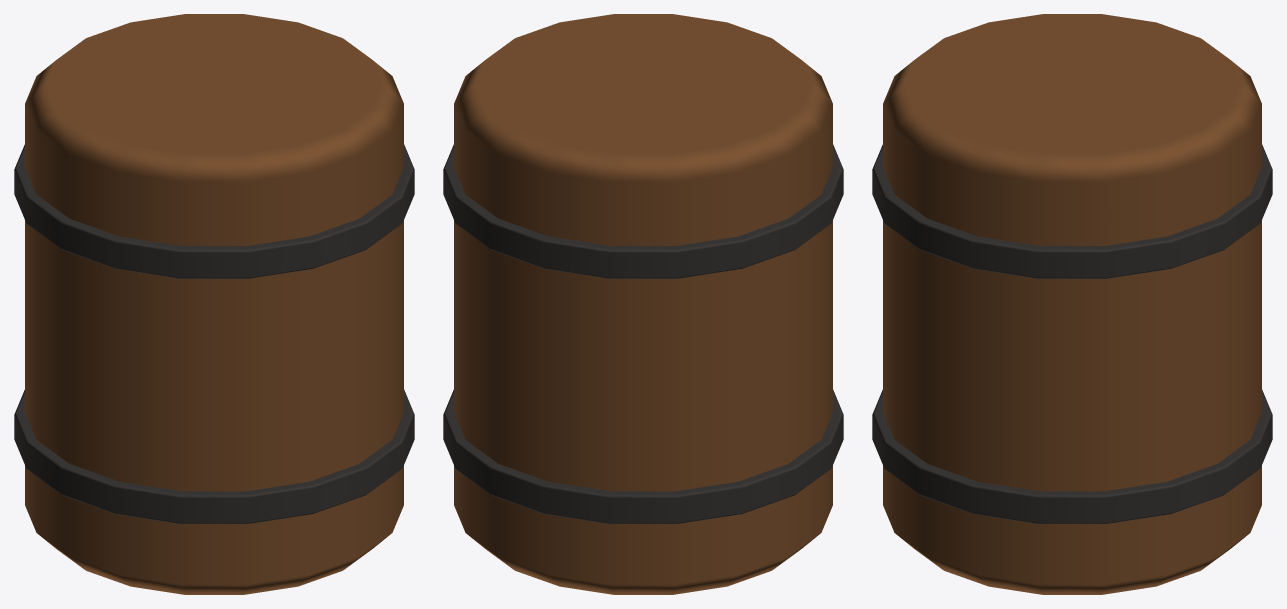
The model's file is barrel.a5f68e34.glb.
3 views of the same model, side by side, from view 1: azimuth 30°, elevation 25°; view 2: azimuth 150°, elevation 25°; view 3: azimuth 270°, elevation 25° (orthographic).
Visible parts, largest first — view 1: body; view 2: body; view 3: body.
Boxes of the visible parts, box(x1,y1,x2,y2) form: body: box(14, 14, 414, 594); body: box(443, 14, 843, 594); body: box(872, 14, 1272, 594).
Bounding box in the file's own units: 0.7288 × 0.9 × 0.74.
